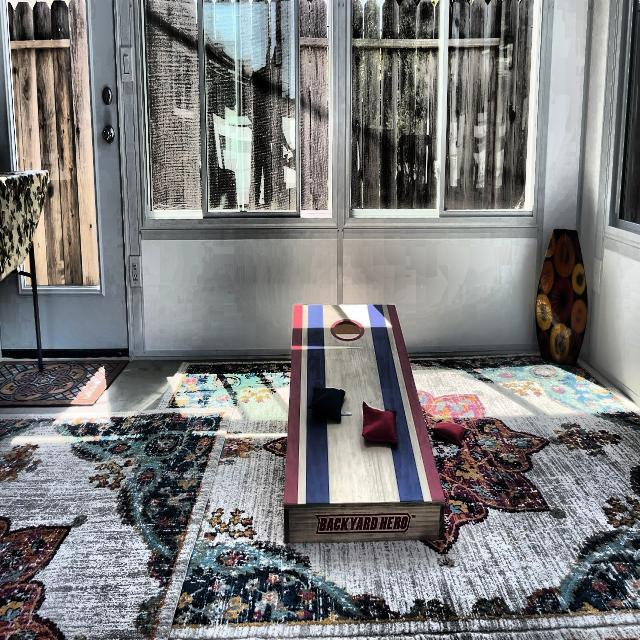blue-bean-bag: (310, 386, 345, 420)
board: (291, 306, 409, 502)
hole: (330, 318, 365, 342)
red-bean-bag: (362, 399, 398, 447), (433, 419, 467, 446)
